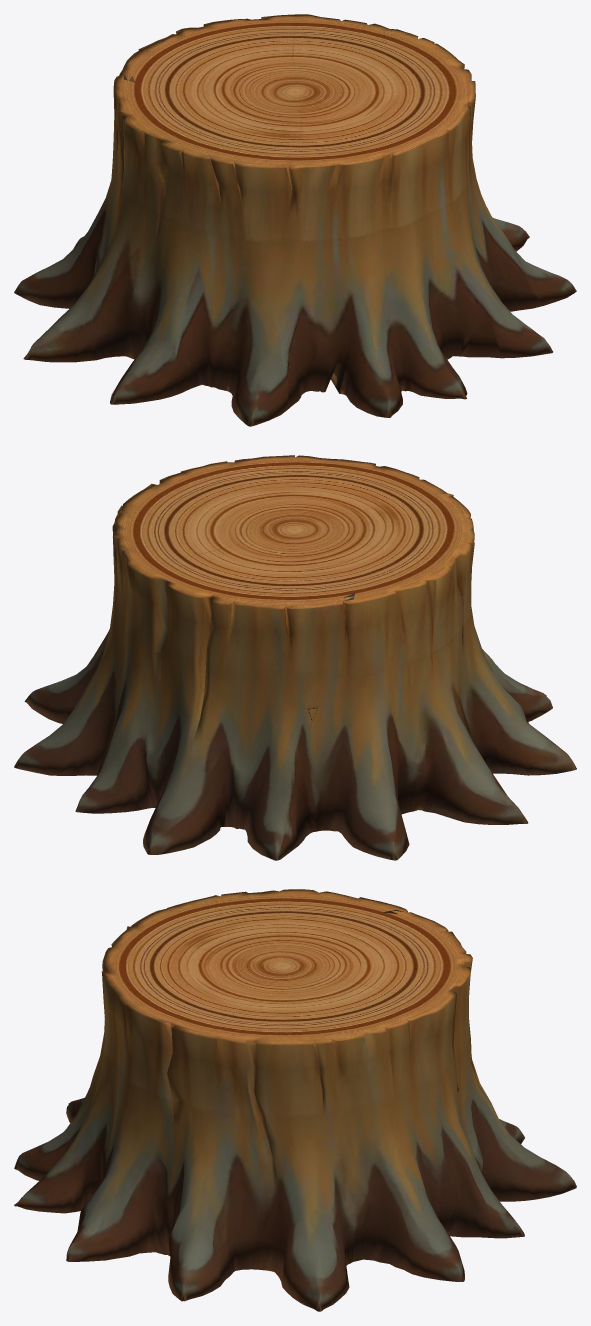
The model's file is stump.glb.
3 views of the same model, one above another, from view 1: azimuth 30°, elevation 25°; view 2: azimuth 150°, elevation 25°; view 3: azimuth 270°, elevation 25° (orthographic).
Size of the model in its own units: 0.9497 by 0.3959 by 0.9087.
Materials: 1 (1 with a texture image).
